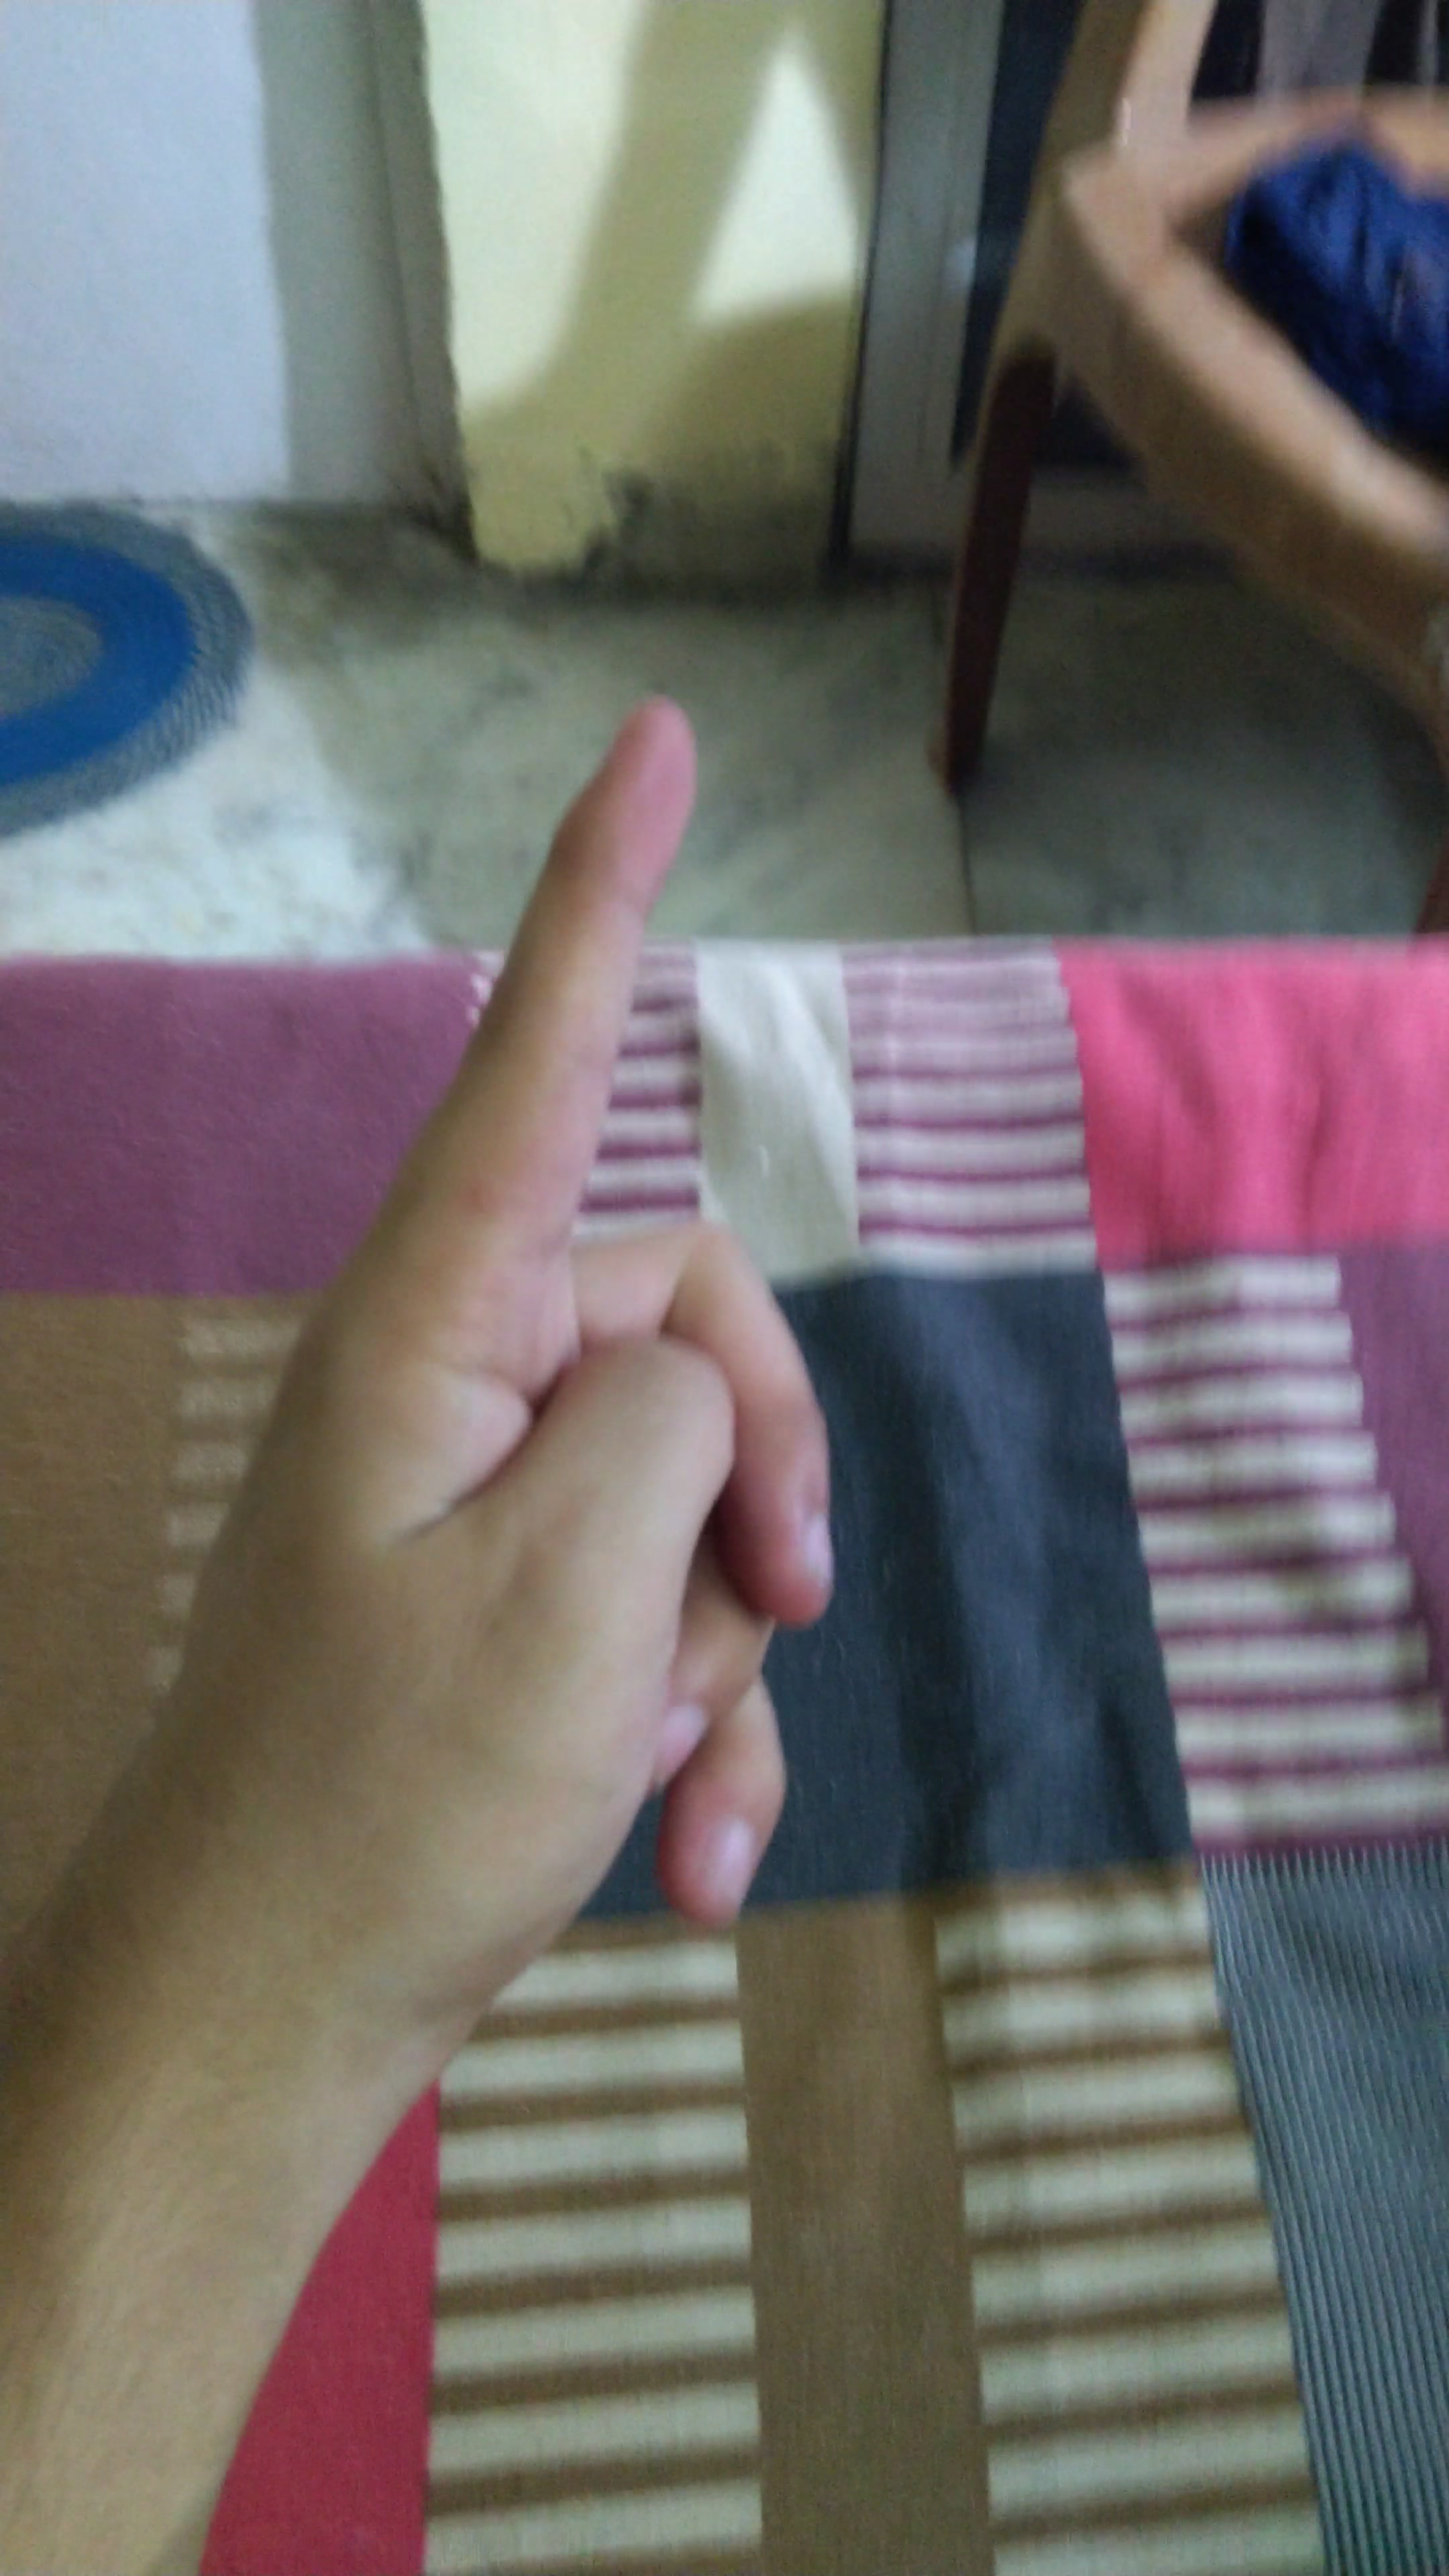hand: (133, 663, 893, 2077)
